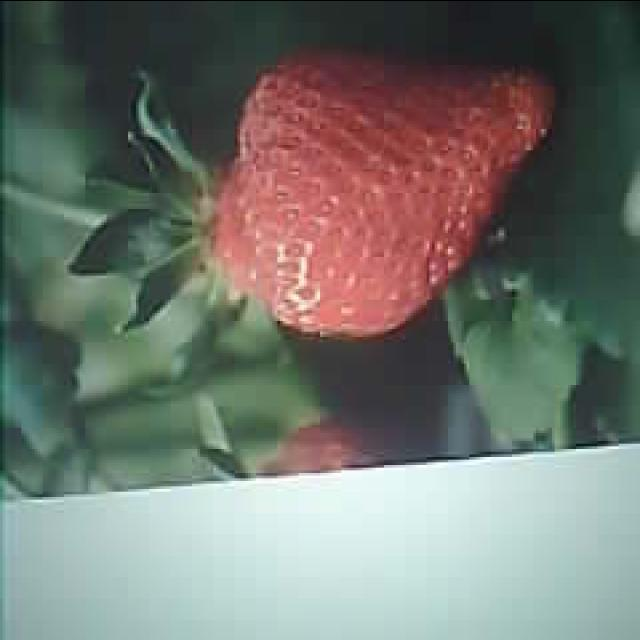strawberry: (204, 47, 562, 342)
